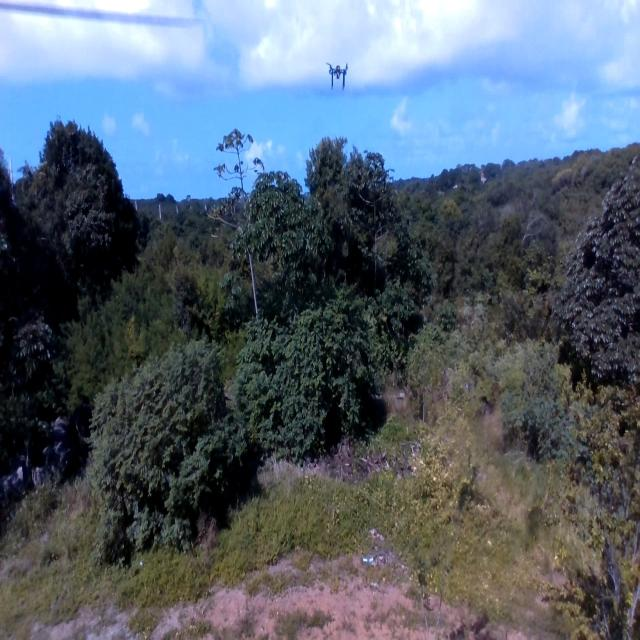-uav-: (319, 51, 353, 96)
